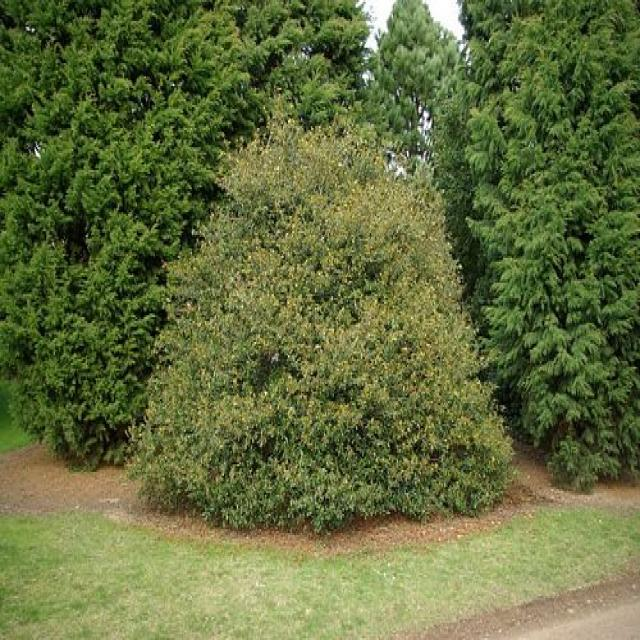Chrysolepis chrysophylla: (130, 127, 514, 531)
